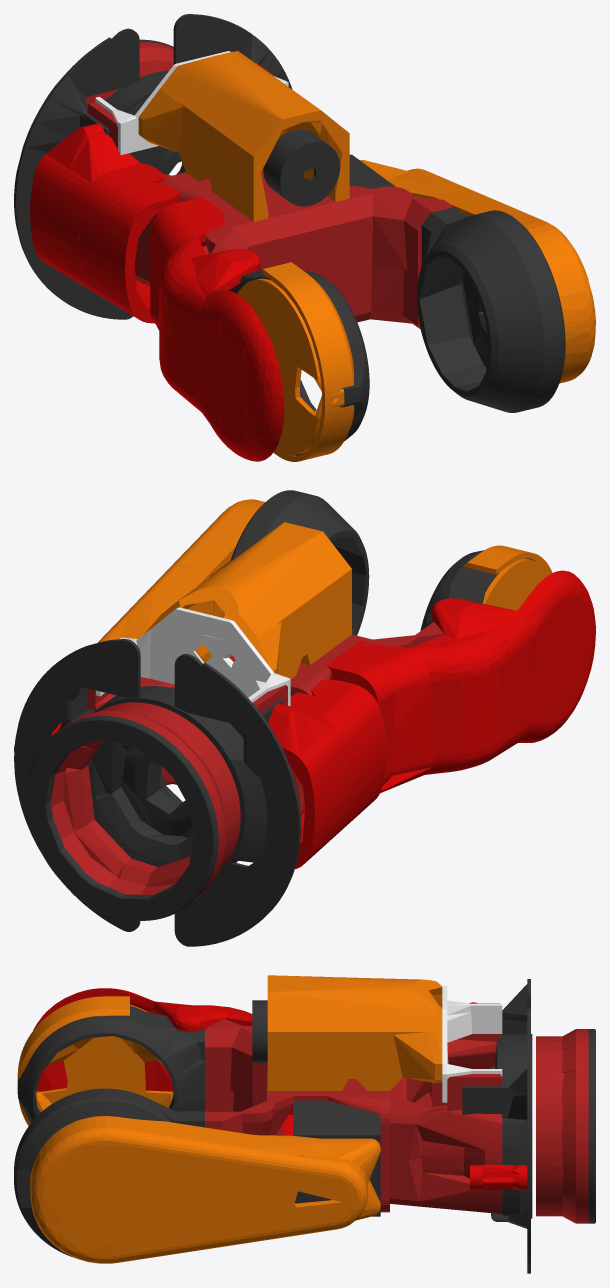
The model's file is LARM_LINK2_mesh.dae.
The picture shows the model from 3 angles, top to bottom: view 1: azimuth 30°, elevation 25°; view 2: azimuth 150°, elevation 25°; view 3: azimuth 270°, elevation 25°; orthographic projection. The views are drawn at different scales.
Visible parts, largest first — view 1: LARM_LINK2 (×19); view 2: LARM_LINK2 (×17); view 3: LARM_LINK2 (×19).
Part boxes in pixels (bbox=[...]): LARM_LINK2 (×19): bbox=[14, 14, 595, 461]; LARM_LINK2 (×17): bbox=[14, 491, 595, 946]; LARM_LINK2 (×19): bbox=[14, 975, 595, 1273].
Size of the model in its own units: 0.1389 by 0.1205 by 0.233.
